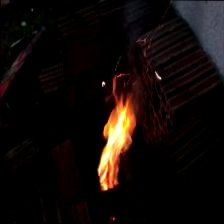fire: (86, 72, 149, 198)
